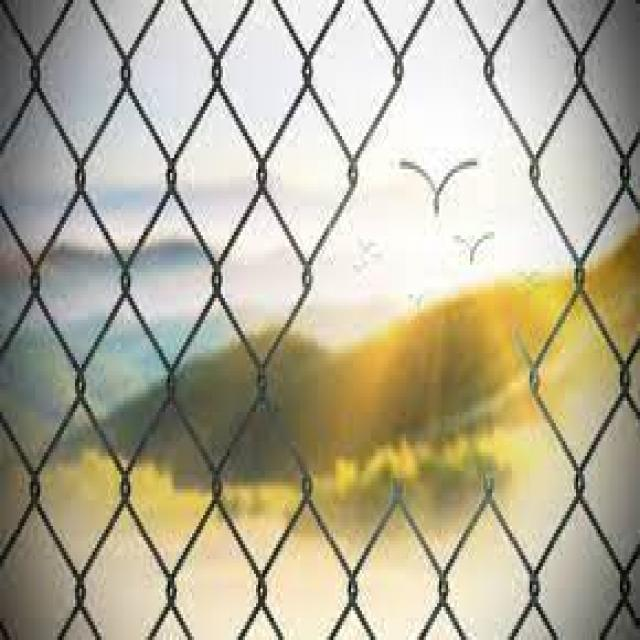fence line: (258, 37, 572, 541)
